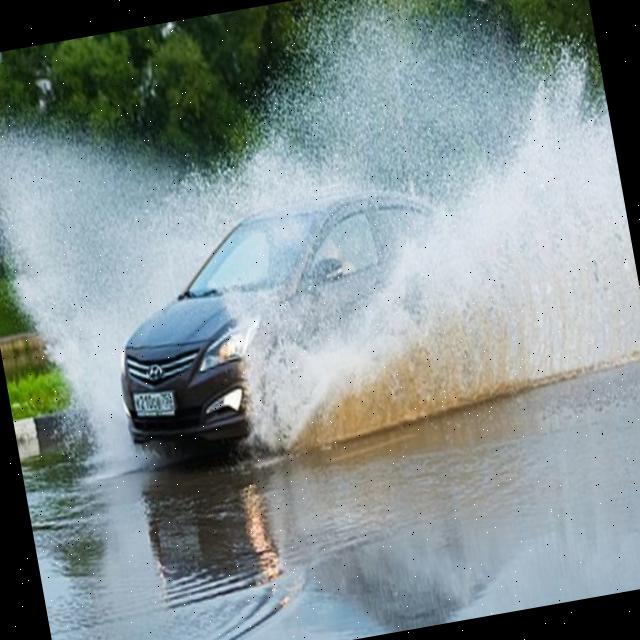car: (100, 159, 608, 465)
